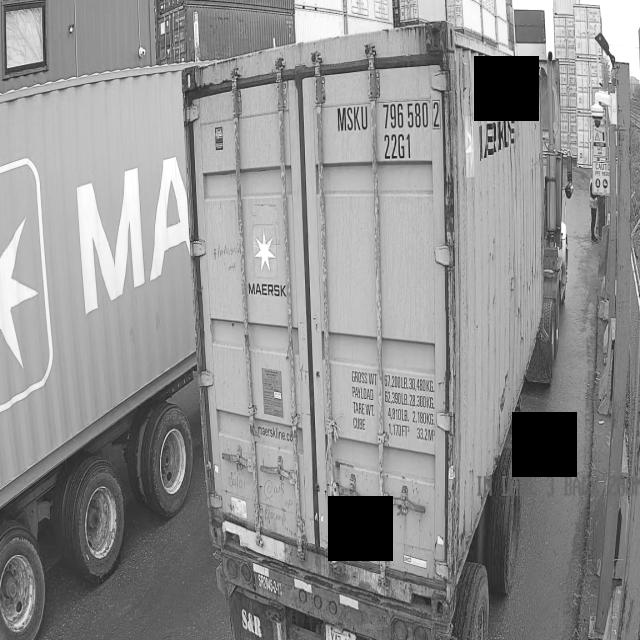container_company_logo: (246, 224, 284, 306)
container_number: (335, 102, 443, 164)
license_plate: (321, 627, 360, 640)
other_container_info: (348, 362, 435, 446)
truck_with_container: (184, 22, 573, 640), (0, 66, 196, 640)
